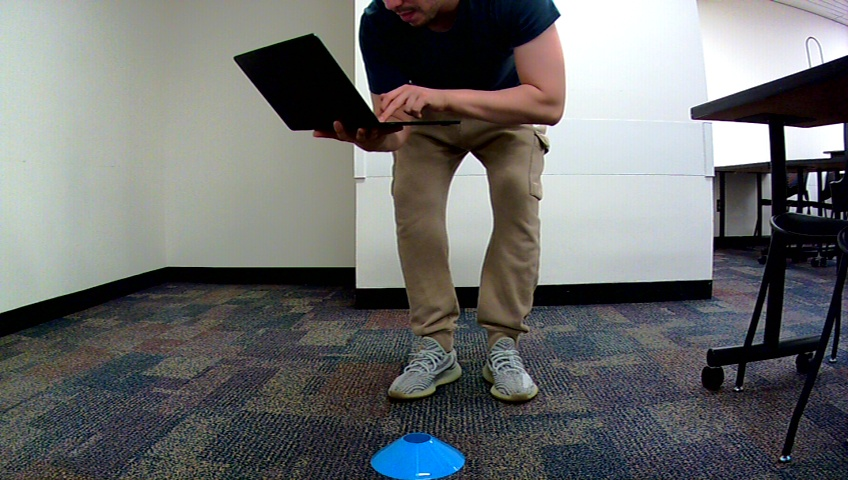cone: (367, 433, 469, 479)
